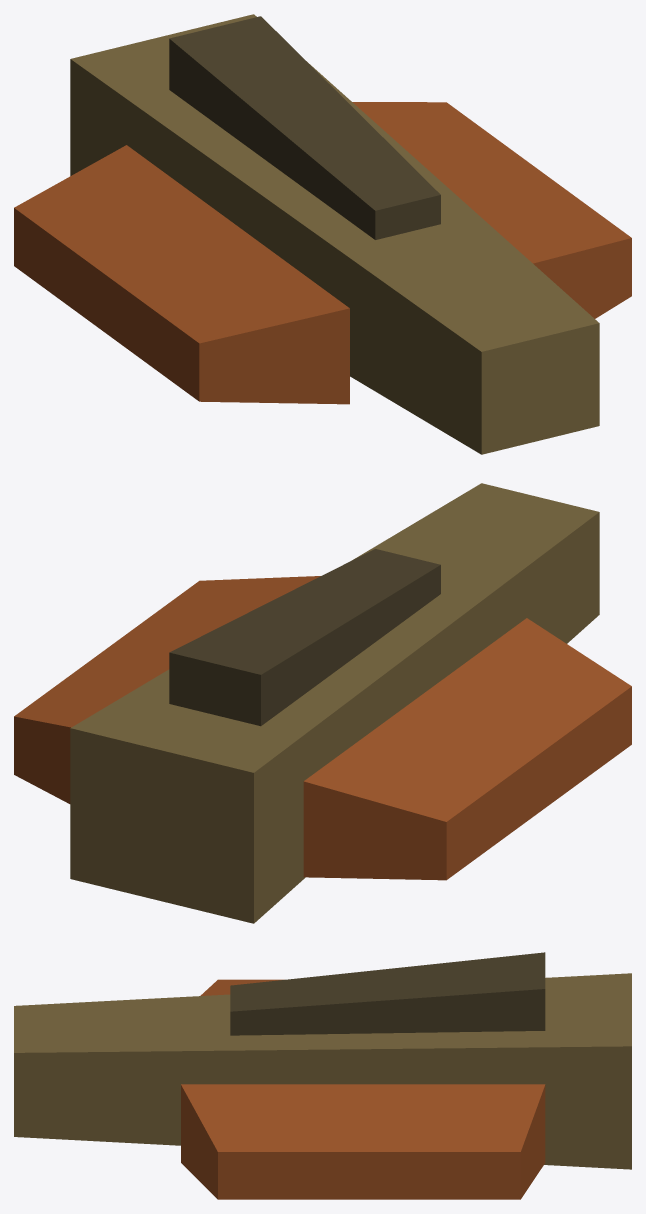
Rendered from bomber.obj.
3 renders of one model, top to bottom at view 1: azimuth 30°, elevation 25°; view 2: azimuth 150°, elevation 25°; view 3: azimuth 270°, elevation 25°, orthographic. The views are drawn at different scales.
Size of the model in its own units: 0.66 by 0.29 by 1.
